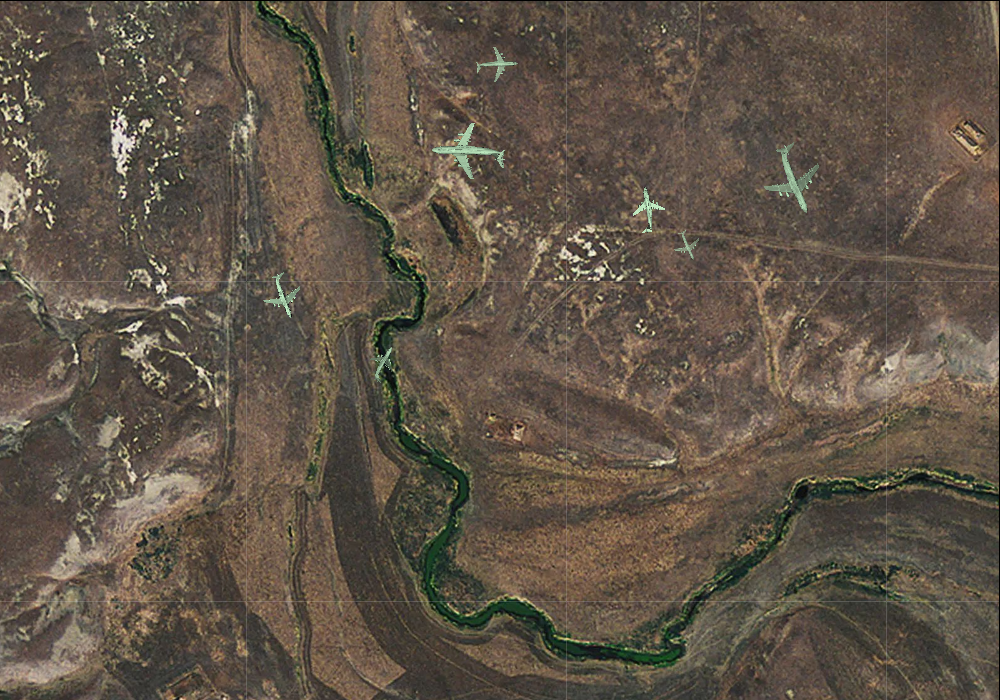plane: (750, 132, 840, 224), (431, 119, 506, 188), (254, 266, 312, 325), (622, 183, 670, 236), (360, 340, 407, 388), (475, 44, 518, 85), (667, 224, 707, 265)
